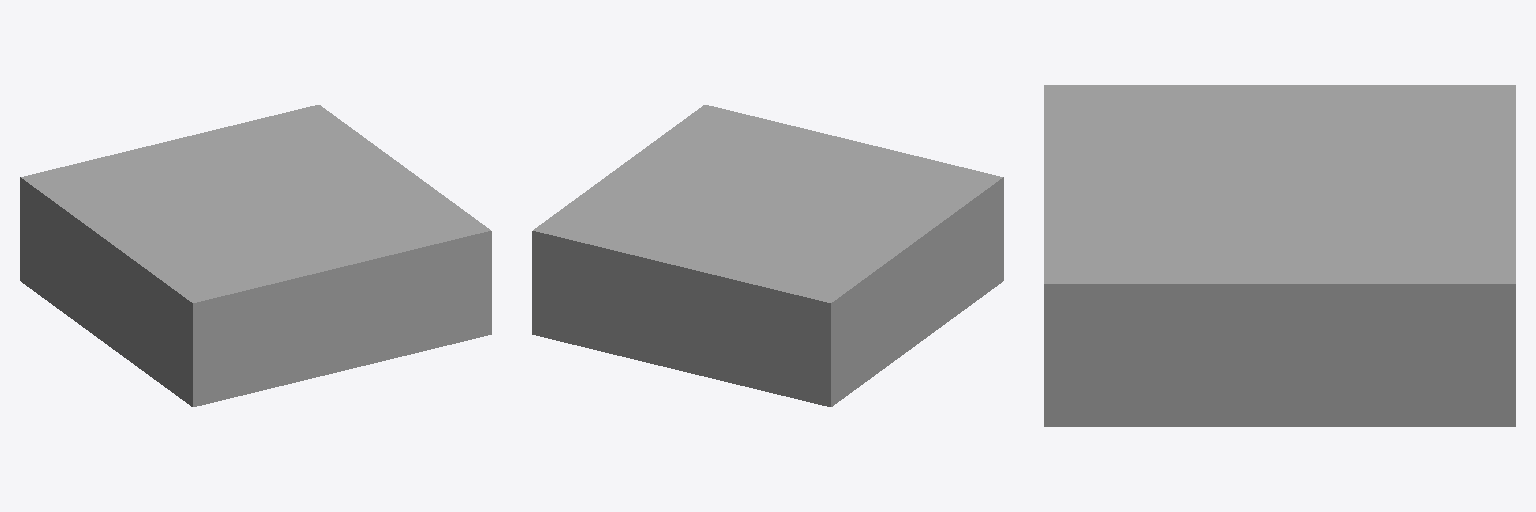
robot.urdf — ur5:
<?xml version="1.0" ?>
<robot name="ur5" xmlns:xacro="http://ros.org/wiki/xacro">
  <link name="base_link">
  </link>

  <link name="cuboid">
    <visual>
      <geometry>
        <box size="0.6 0.6 0.2"/>
      </geometry>
      <material name="LightGrey">
        <color rgba="0.7 0.7 0.7 1.0"/>
      </material>
    </visual>
    <collision>
      <geometry>
        <box size="0.6 0.6 0.2"/>
      </geometry>
    </collision>
  </link>

  <joint name="cuboid_joint" type="floating">
    <parent link="base_link"/>
    <child link="cuboid"/>
    <limit effort="150.0" velocity="3.15"/>
  </joint>
</robot>

--- Render facts (derived) ---
Views: 3 orthographic renders of the robot side by side, from view 1: azimuth 30°, elevation 25°; view 2: azimuth 150°, elevation 25°; view 3: azimuth 270°, elevation 25°.
Model ur5 with 2 links and 1 joints (1 floating), rooted at base_link, posed all joints at 0.
Links seen in each view (by area): view 1: cuboid; view 2: cuboid; view 3: cuboid.
Boxes of the visible links, left/top/right/bottom form: cuboid: left=20, top=105, right=491, bottom=406; cuboid: left=532, top=105, right=1003, bottom=406; cuboid: left=1044, top=85, right=1515, bottom=426.
Bounding box of the posed robot: 0.6 × 0.6 × 0.2 m (x, y, z).
Geometry: primitives only (box / cylinder / sphere), no mesh files.